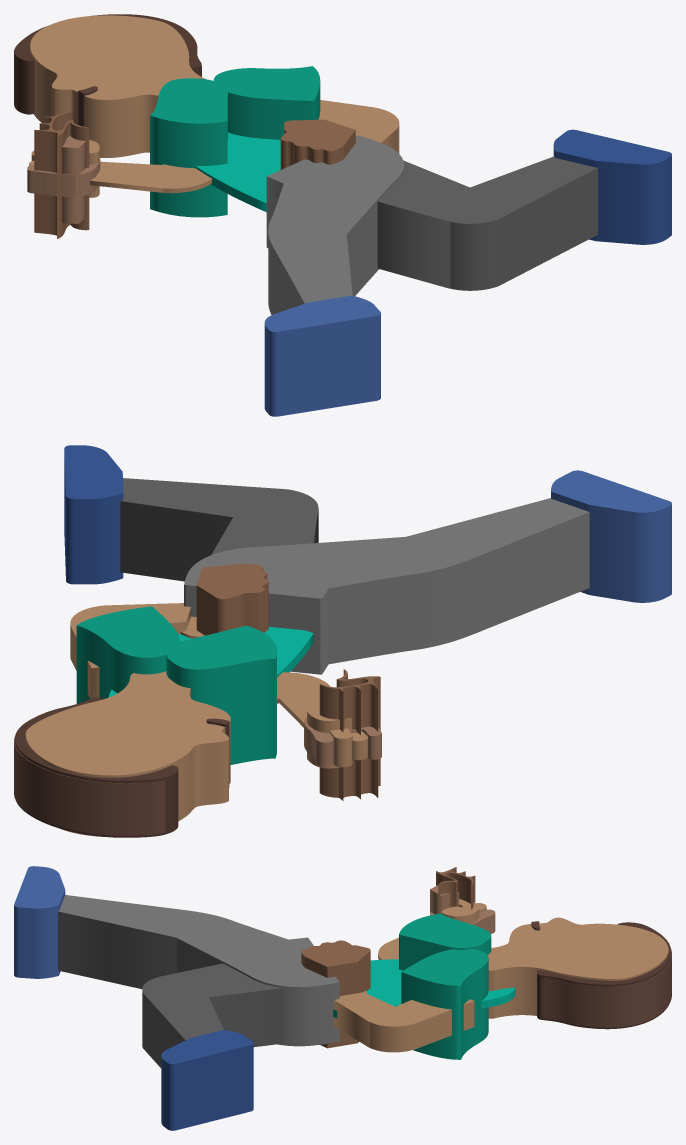
Rendered from emoji_u1f3c3_1f3fd_200d_2642.glb.
3 views of the same model, one above another, from view 1: azimuth 30°, elevation 25°; view 2: azimuth 150°, elevation 25°; view 3: azimuth 270°, elevation 25° (orthographic). The views are drawn at different scales.
Visible parts, largest first — view 1: emoji_u1f3c3_1f3fd_200d_2642; view 2: emoji_u1f3c3_1f3fd_200d_2642; view 3: emoji_u1f3c3_1f3fd_200d_2642.
Part boxes in pixels (left/top/right/bottom): emoji_u1f3c3_1f3fd_200d_2642: left=14, top=14, right=671, bottom=416; emoji_u1f3c3_1f3fd_200d_2642: left=14, top=445, right=671, bottom=837; emoji_u1f3c3_1f3fd_200d_2642: left=14, top=866, right=671, bottom=1130.
Bounding box in the file's own units: 0.0228 × 0.0046 × 0.0322.
